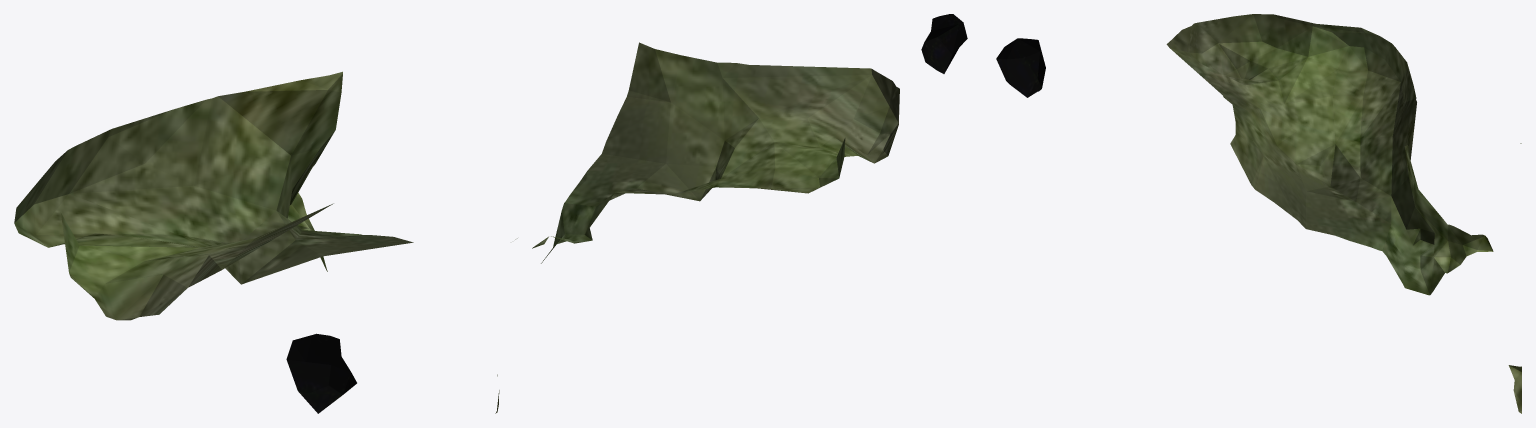
3 views of the same model, side by side, from view 1: azimuth 30°, elevation 25°; view 2: azimuth 150°, elevation 25°; view 3: azimuth 270°, elevation 25° (orthographic). The views are drawn at different scales.
Bounding box in the file's own units: 1.69 × 1.63 × 2.87.
1 material, 1 textured.
